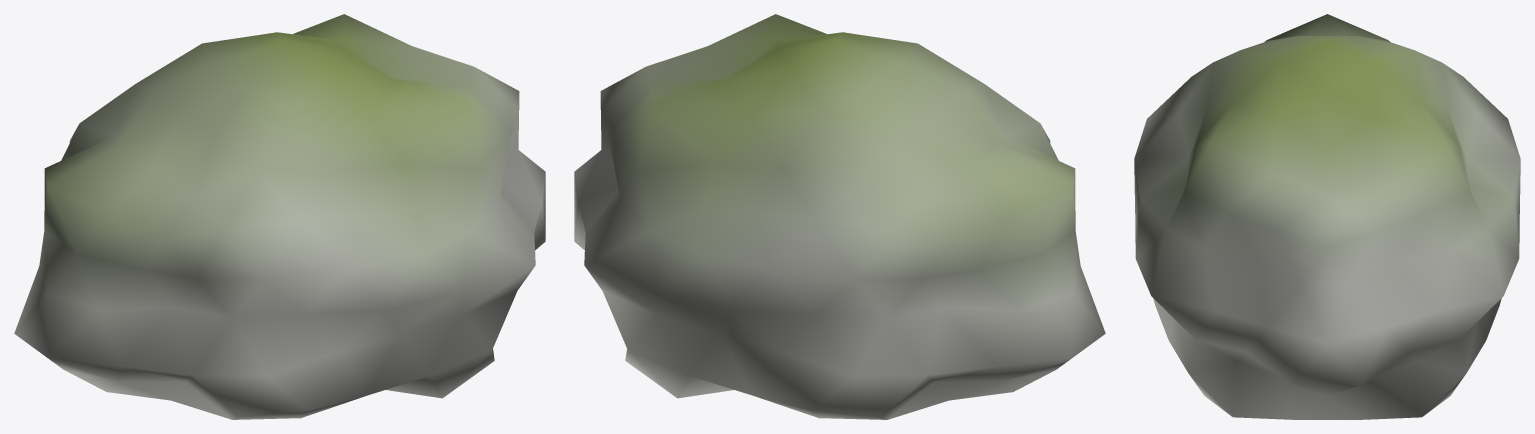
The model's file is rock_1_lod0.glb.
3 renders of one model, left to right at view 1: azimuth 30°, elevation 25°; view 2: azimuth 150°, elevation 25°; view 3: azimuth 270°, elevation 25°, orthographic. The views are drawn at different scales.
Visible parts, largest first — view 1: rock_1_lod0; view 2: rock_1_lod0; view 3: rock_1_lod0.
Boxes of the visible parts, x1=… form: rock_1_lod0: x1=14, y1=14, x2=545, y2=419; rock_1_lod0: x1=574, y1=14, x2=1105, y2=419; rock_1_lod0: x1=1134, y1=14, x2=1520, y2=419.
Bounding box in the file's own units: 1.65 × 1.05 × 1.14.
